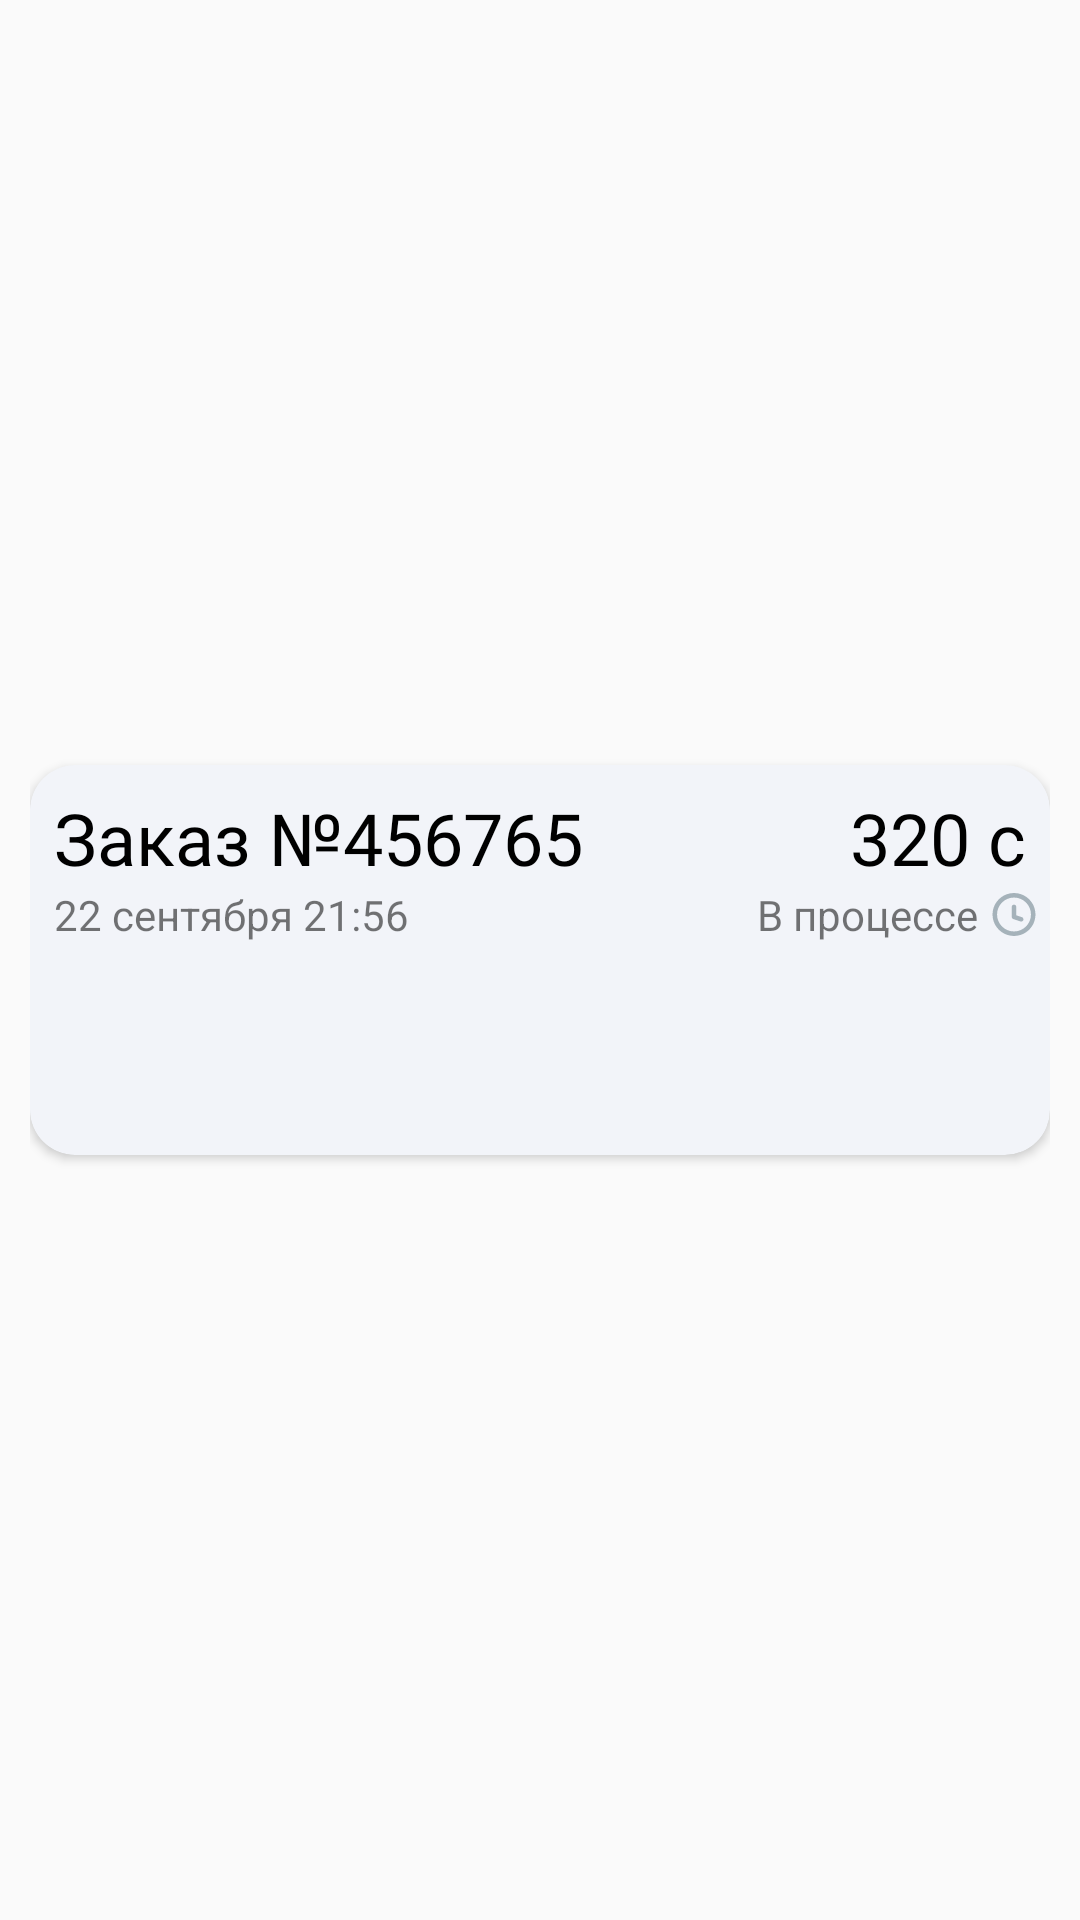

Icon click points for this 1080px×1920px phone screenshot, format (x=x, y=y):
in process: (x=1014, y=914)
